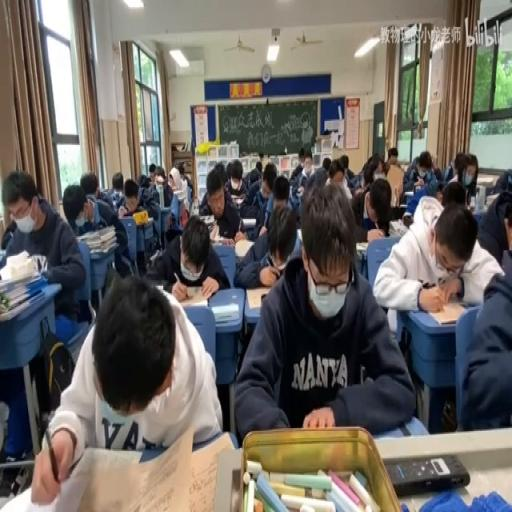calculator: (0, 252, 49, 320), (355, 233, 406, 272), (374, 420, 430, 440), (424, 299, 466, 324), (174, 283, 215, 304), (78, 224, 114, 242), (246, 284, 272, 308), (210, 302, 238, 322), (233, 236, 254, 258), (89, 243, 117, 256), (199, 216, 215, 235), (388, 218, 407, 234), (212, 233, 234, 246), (485, 192, 499, 206), (458, 298, 476, 308), (355, 239, 368, 252), (475, 175, 495, 183), (149, 246, 159, 260), (240, 218, 257, 226), (152, 282, 165, 292), (397, 202, 407, 215), (414, 179, 424, 189), (295, 228, 302, 240), (404, 191, 414, 199), (296, 184, 304, 194)
paper: (234, 181, 412, 438), (32, 269, 218, 505), (372, 196, 503, 314), (66, 179, 129, 286), (144, 212, 226, 294), (194, 164, 245, 240), (355, 175, 394, 239), (246, 161, 278, 232), (134, 170, 164, 244), (444, 149, 478, 205), (403, 146, 435, 194), (168, 164, 190, 224), (383, 154, 405, 206), (289, 152, 312, 196), (486, 166, 512, 198), (106, 169, 126, 206), (271, 174, 290, 206), (362, 155, 381, 185), (123, 179, 139, 211), (1, 219, 17, 249), (80, 171, 99, 196), (310, 168, 328, 189), (214, 160, 228, 178), (230, 166, 242, 186), (154, 166, 165, 184), (148, 161, 157, 179), (339, 154, 349, 170), (432, 165, 442, 181), (138, 175, 150, 188), (322, 155, 331, 172), (388, 148, 398, 162), (186, 184, 192, 206), (354, 182, 364, 195), (254, 161, 262, 175), (166, 175, 174, 189), (381, 161, 388, 175), (178, 162, 184, 176), (298, 148, 304, 161)
person: (384, 452, 468, 495)
